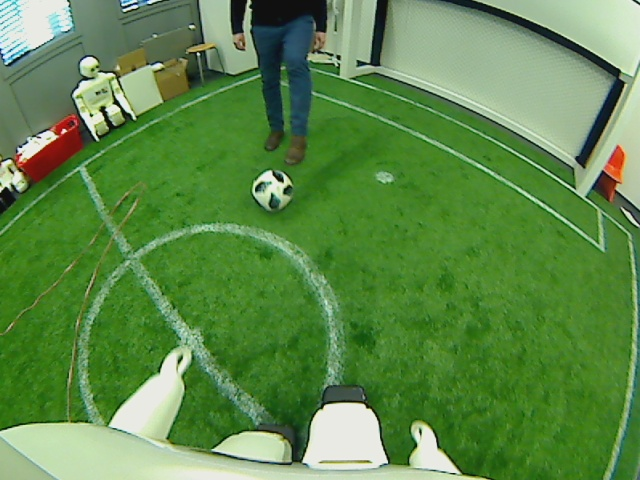ball: (250, 167, 294, 213)
